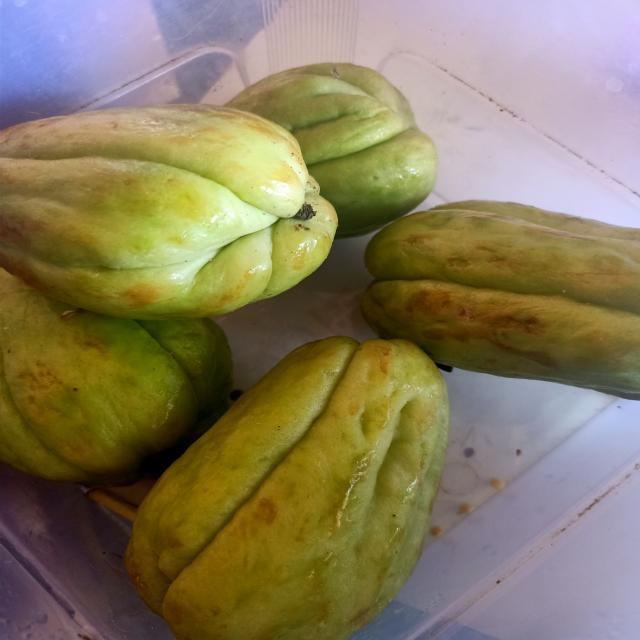Chayote: (124, 337, 451, 640), (0, 99, 347, 321)
